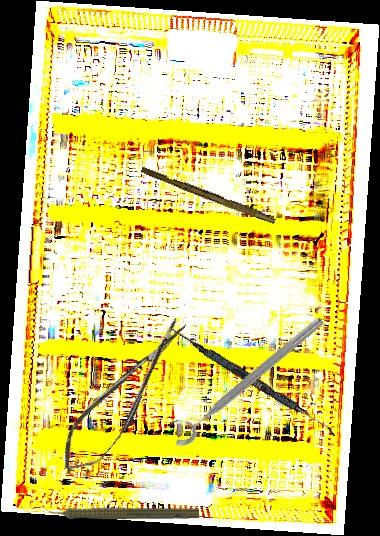Fixation Ring: (161, 303, 329, 452)
Handpiece: (41, 502, 199, 521)
Micro Scissor: (47, 310, 203, 484)
Scalpel Handle: (139, 165, 278, 225)
Spatula Surgical: (168, 326, 340, 437)
